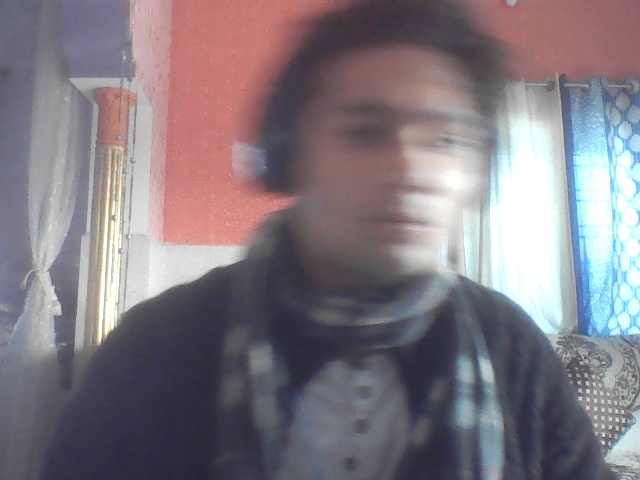real: (276, 0, 500, 317)
